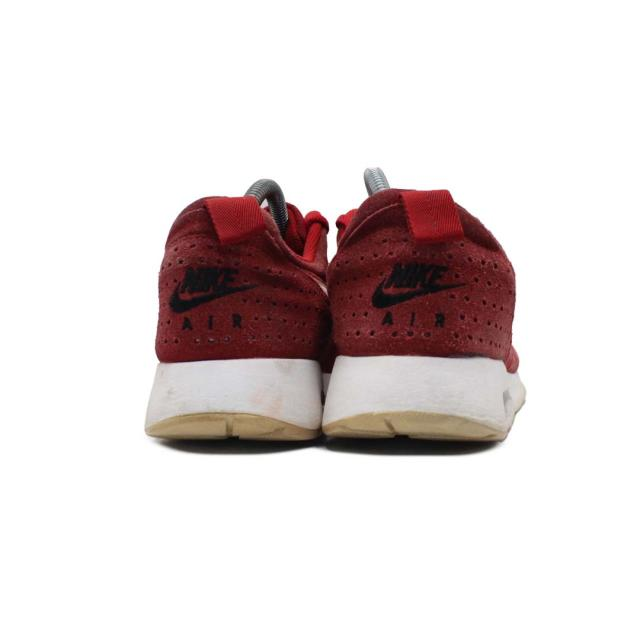heel: (335, 178, 512, 358), (152, 188, 320, 360)
midsole: (137, 357, 320, 453), (334, 356, 526, 442)
